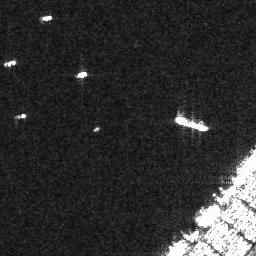ship: (229, 143, 256, 182), (173, 113, 209, 134), (192, 200, 218, 228), (2, 60, 17, 69), (75, 71, 88, 80), (14, 112, 28, 120), (221, 184, 226, 205), (40, 14, 53, 22)
